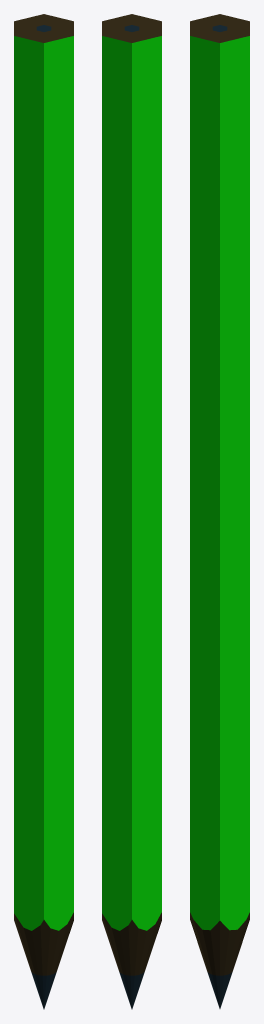
Rendered from RandomGiantPencil.fbx.
3 renders of one model, left to right at view 1: azimuth 30°, elevation 25°; view 2: azimuth 210°, elevation 25°; view 3: azimuth 270°, elevation 25°, orthographic.
Parts seen in each view (by area): view 1: GiantPencil; view 2: GiantPencil; view 3: GiantPencil.
Boxes of the visible parts, x1,y1,x2,y2 form: GiantPencil: (14,14,73,1009); GiantPencil: (102,14,161,1009); GiantPencil: (190,14,249,1008).
Bounding box in the file's own units: 0.5993 × 9.41 × 0.519.
